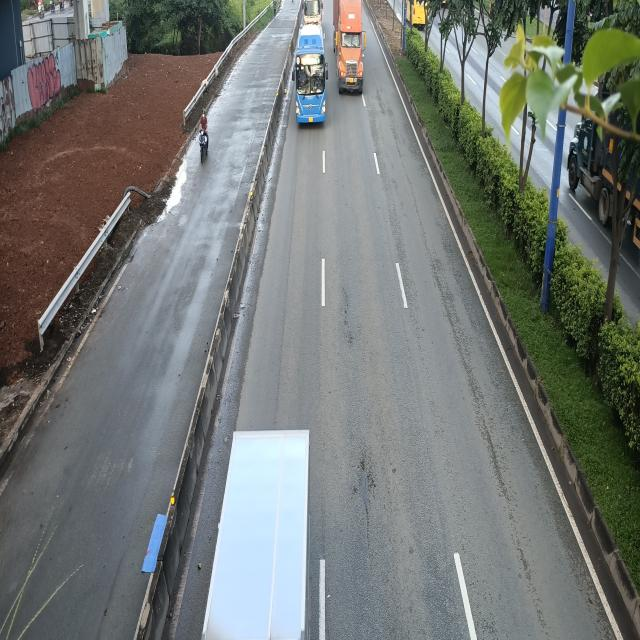coach: (291, 17, 327, 124)
container: (334, 2, 367, 96)
